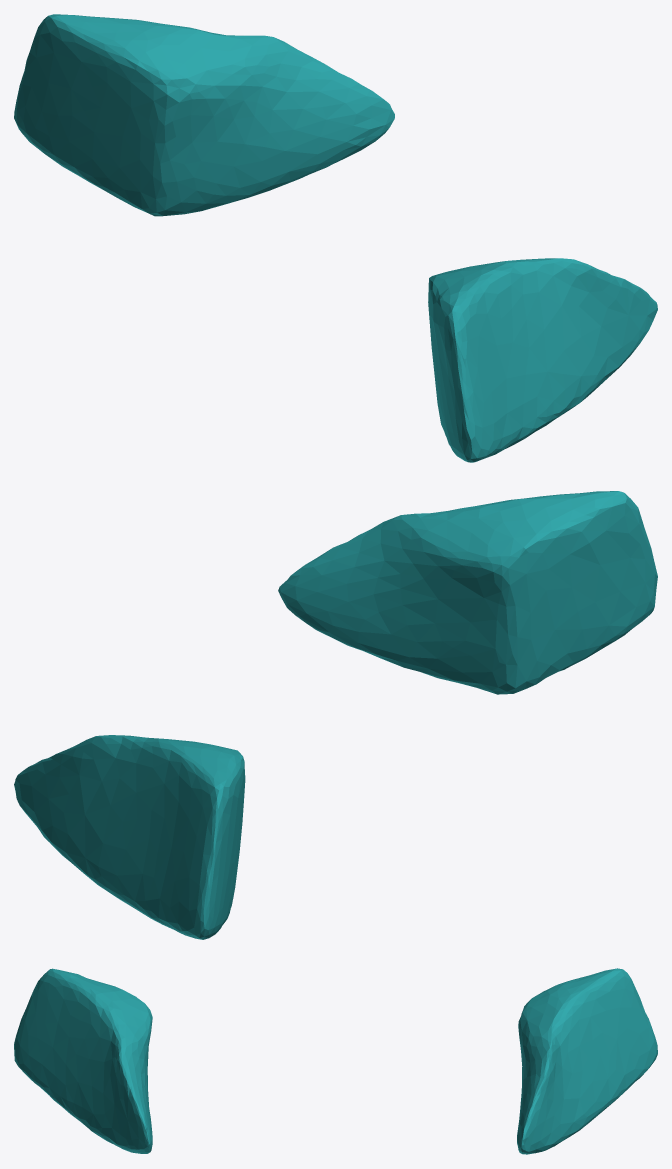
The picture shows the model from 3 angles, top to bottom: view 1: azimuth 30°, elevation 25°; view 2: azimuth 150°, elevation 25°; view 3: azimuth 270°, elevation 25°; orthographic projection. The views are drawn at different scales.
Visible parts, largest first — view 1: 533.obj; view 2: 533.obj; view 3: 533.obj.
Boxes of the visible parts, x1,y1,x2,y2 form: 533.obj: (14,14,657,462); 533.obj: (14,491,657,939); 533.obj: (14,968,657,1154).
Size of the model in its own units: 1708 by 1011 by 4690.
